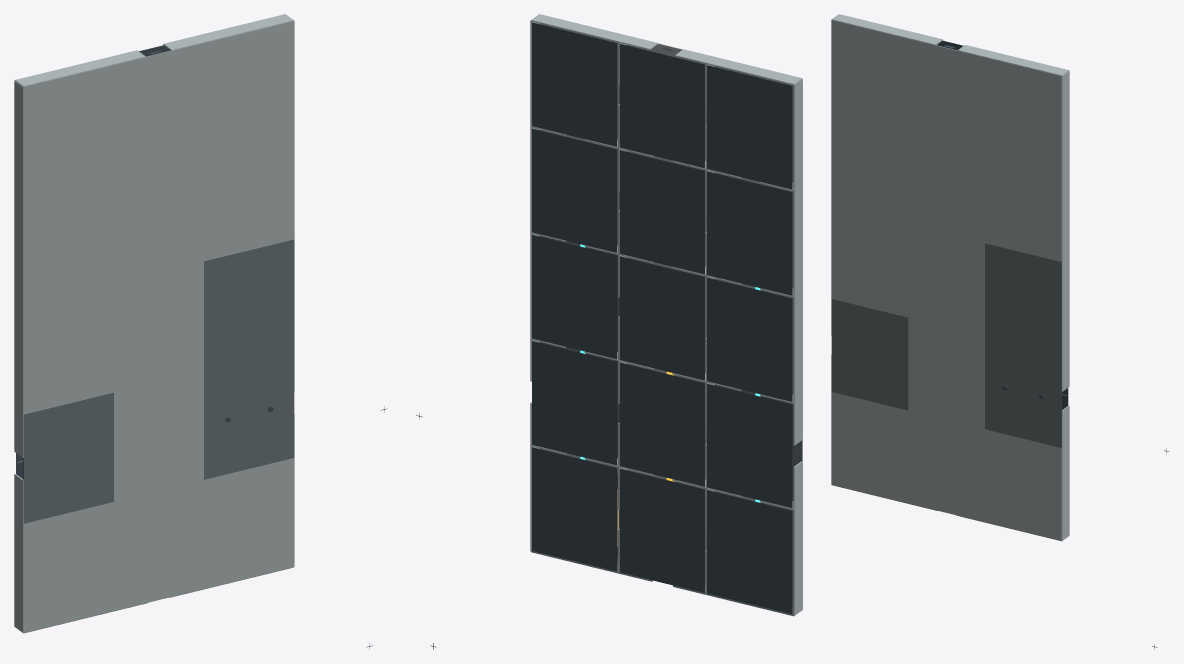
The model's file is b01_loading_dock_megaplex.glb.
The picture shows the model from 3 angles, left to right: view 1: azimuth 30°, elevation 25°; view 2: azimuth 150°, elevation 25°; view 3: azimuth 330°, elevation 25°; orthographic projection. The views are drawn at different scales.
Parts seen in each view (by area): view 1: floor_container_gate, floor_receiving_yard, floor_manifest_office, floor_loading_cage, floor_hazmat_barrels, floor_cold_storage, floor_foreman_catwalk, floor_forklift_repair, floor_security_screening, floor_boiler_pump, floor_customs_entry, floor_alarm_relay (+7 smaller); view 2: ceiling_grid_container_gate, ceiling_grid_cold_storage, ceiling_grid_loading_cage, ceiling_grid_receiving_yard, ceiling_grid_forklift_repair, ceiling_grid_intake_court, ceiling_grid_manifest_office, ceiling_grid_warehouse_spine, ceiling_grid_alarm_relay, ceiling_grid_boiler_pump, ceiling_grid_foreman_catwalk, ceiling_grid_customs_entry (+8 smaller); view 3: floor_receiving_yard, floor_cold_storage, floor_loading_cage, floor_forklift_repair, floor_manifest_office, floor_customs_entry, floor_container_gate, floor_sortation_hall, floor_security_screening, floor_warehouse_spine, floor_alarm_relay, floor_foreman_catwalk (+7 smaller).
Boxes of the visible parts, x1,y1,x2,y2 form: floor_container_gate: (204,21,294,151); floor_receiving_yard: (23,65,113,195); floor_manifest_office: (23,283,113,414); floor_loading_cage: (23,502,113,632); floor_hazmat_barrels: (204,239,294,370); floor_cold_storage: (23,392,113,523); floor_foreman_catwalk: (204,458,294,588); floor_forklift_repair: (23,174,113,305); floor_security_screening: (204,130,294,261); floor_boiler_pump: (204,349,294,479); floor_customs_entry: (114,43,203,173); floor_alarm_relay: (114,370,203,501); ceiling_grid_container_gate: (532,22,617,146); ceiling_grid_cold_storage: (707,383,792,508); ceiling_grid_loading_cage: (707,490,792,614); ceiling_grid_receiving_yard: (707,65,792,189); ceiling_grid_forklift_repair: (707,171,792,295); ceiling_grid_intake_court: (619,150,704,274); ceiling_grid_manifest_office: (707,277,792,401); ceiling_grid_warehouse_spine: (619,256,704,380); ceiling_grid_alarm_relay: (619,362,704,486); ceiling_grid_boiler_pump: (532,341,617,465); ceiling_grid_foreman_catwalk: (532,447,617,571); ceiling_grid_customs_entry: (619,44,704,168); floor_receiving_yard: (831,20,908,131); floor_cold_storage: (831,299,908,410); floor_loading_cage: (831,392,908,503); floor_forklift_repair: (831,113,908,224); floor_manifest_office: (831,206,908,317); floor_customs_entry: (908,38,984,150); floor_container_gate: (985,57,1061,168); floor_sortation_hall: (908,410,984,522); floor_security_screening: (985,150,1061,261); floor_warehouse_spine: (908,224,984,336); floor_alarm_relay: (908,317,984,429); floor_foreman_catwalk: (985,429,1061,540).
Size of the model in its own units: 161 by 268 by 12.88.
